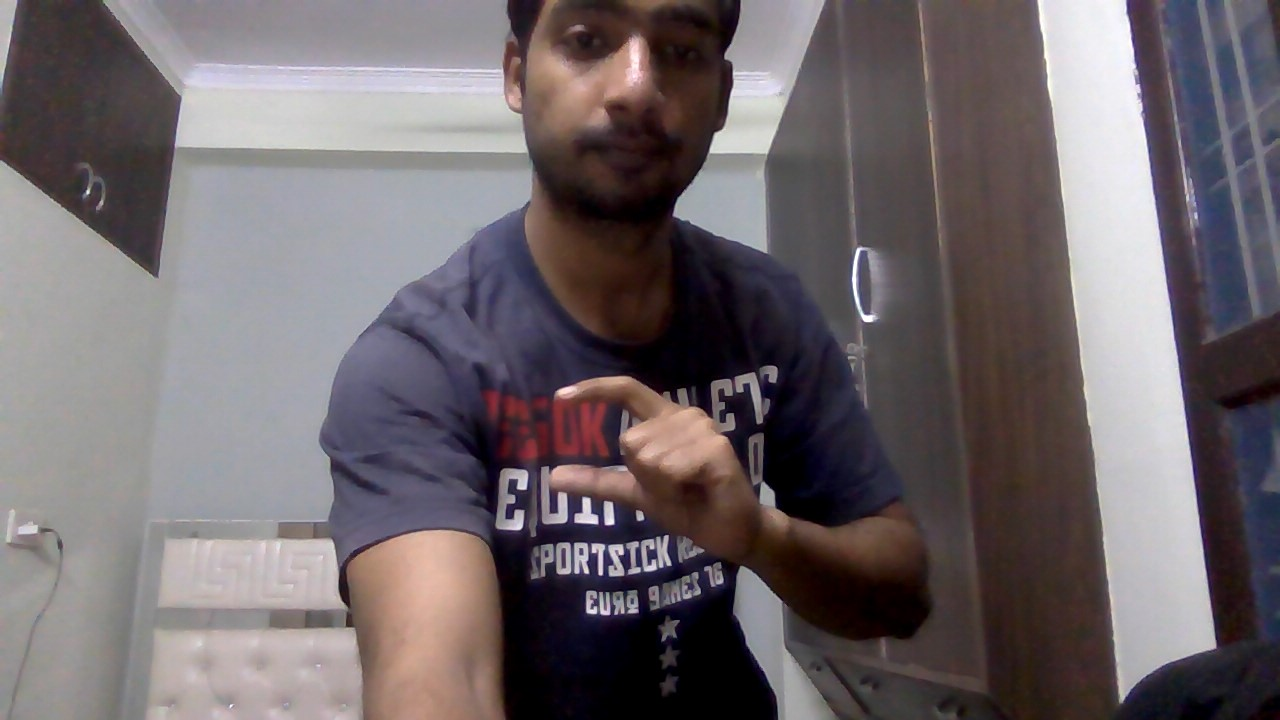Paste: (536, 363, 767, 590)
